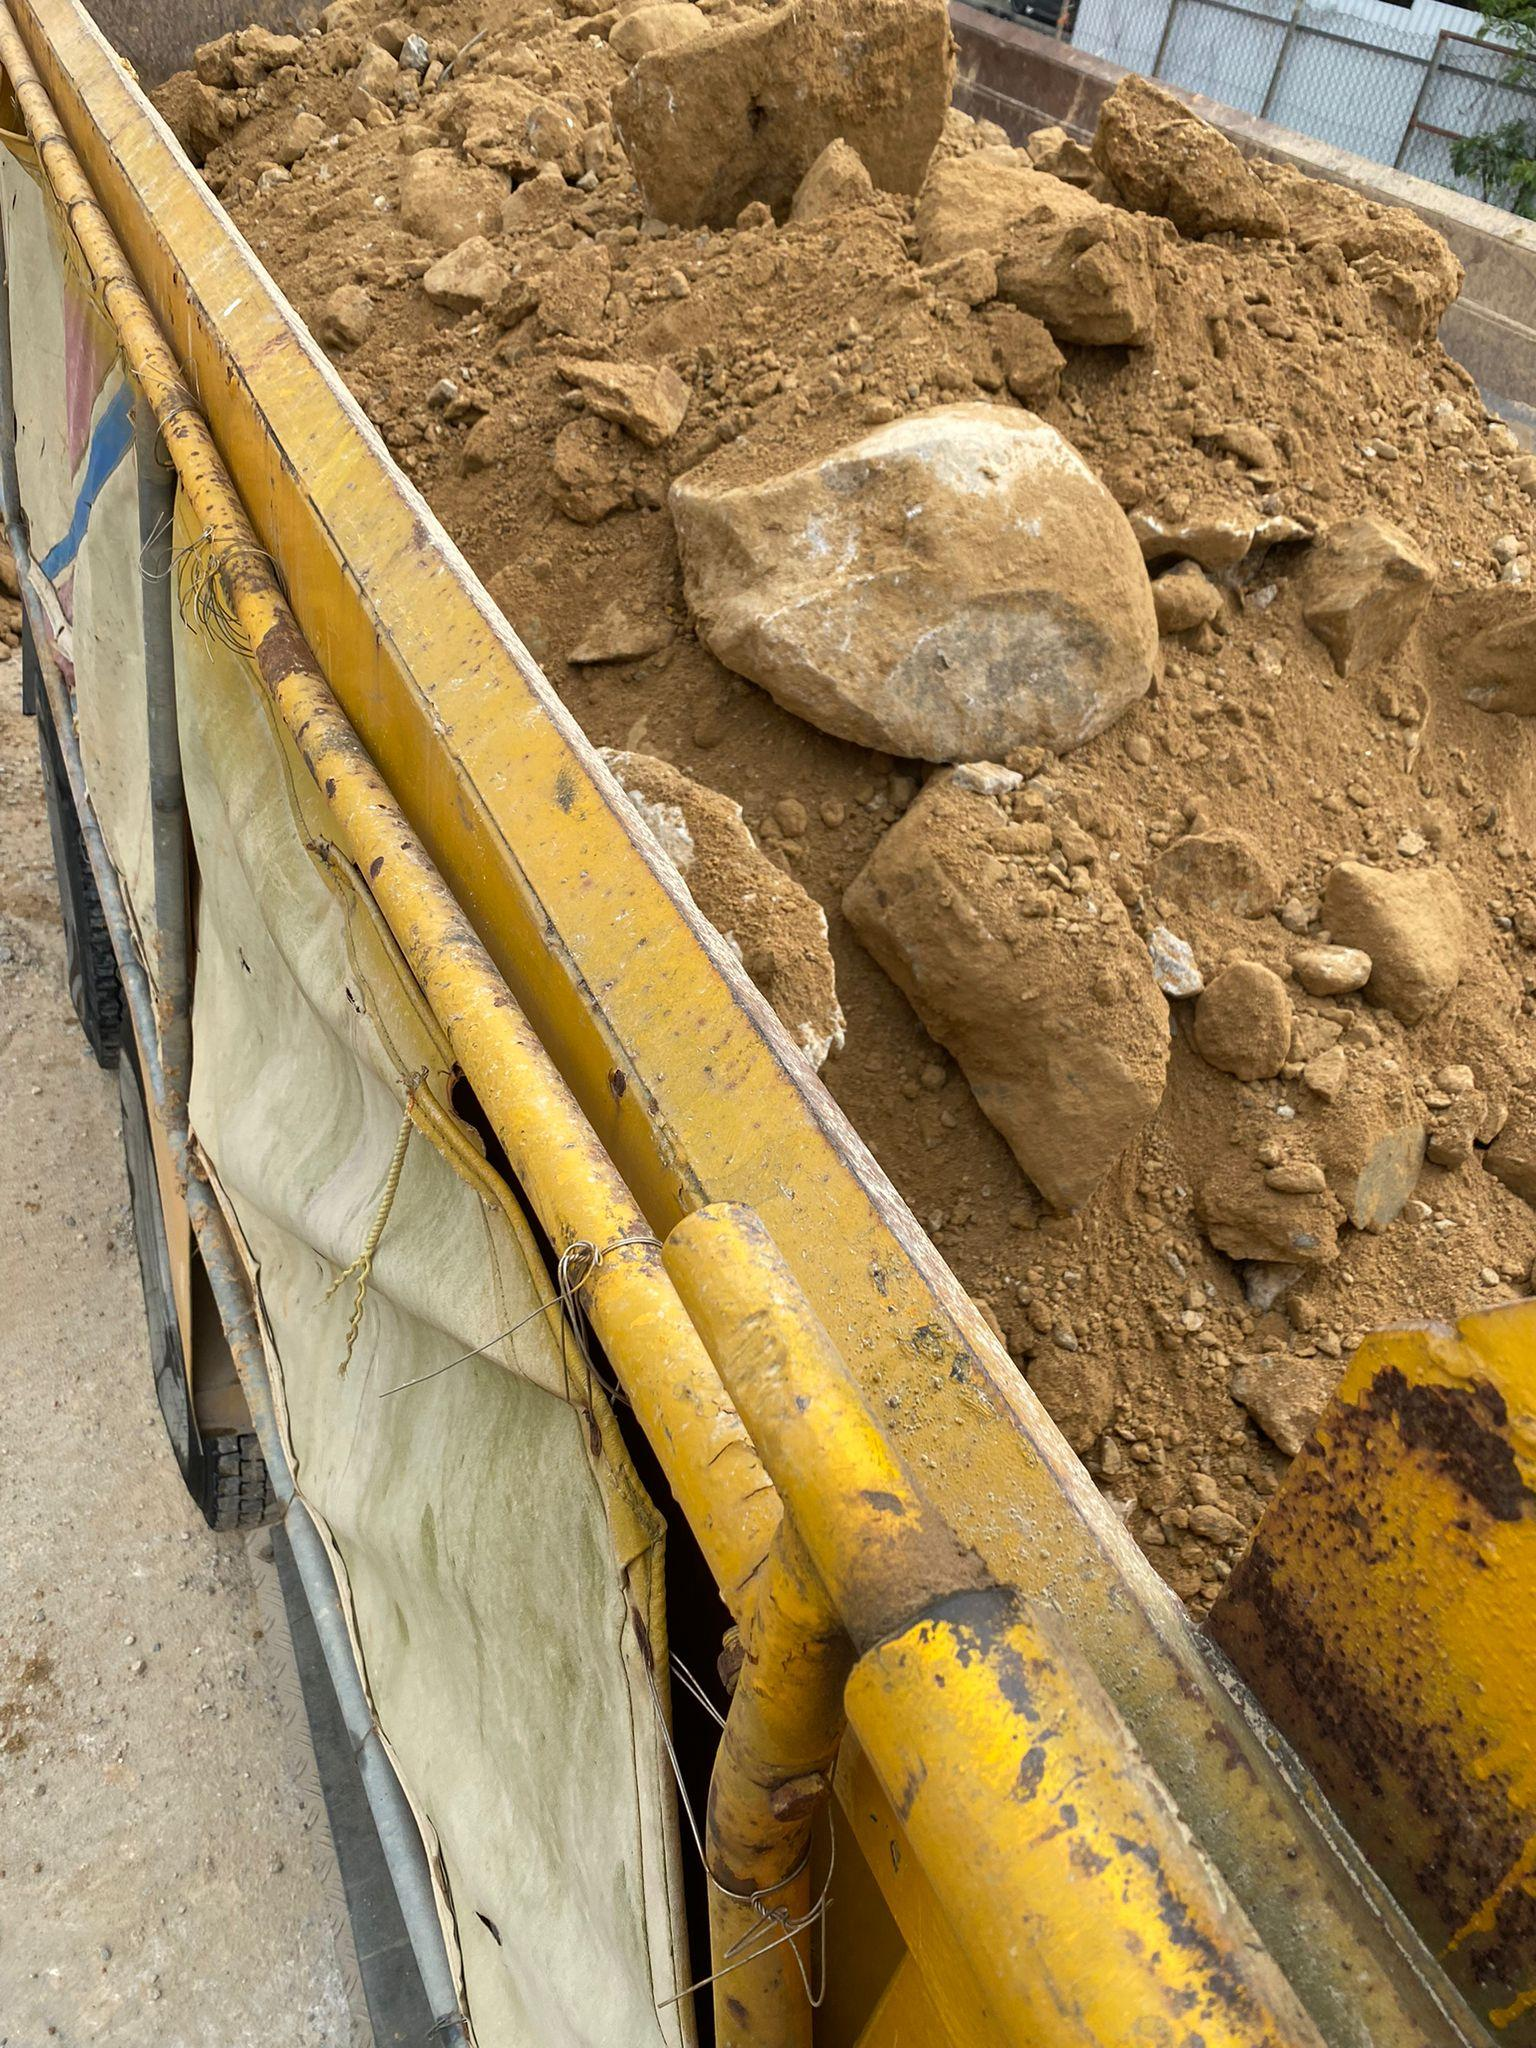dry: (131, 0, 1536, 1613)
